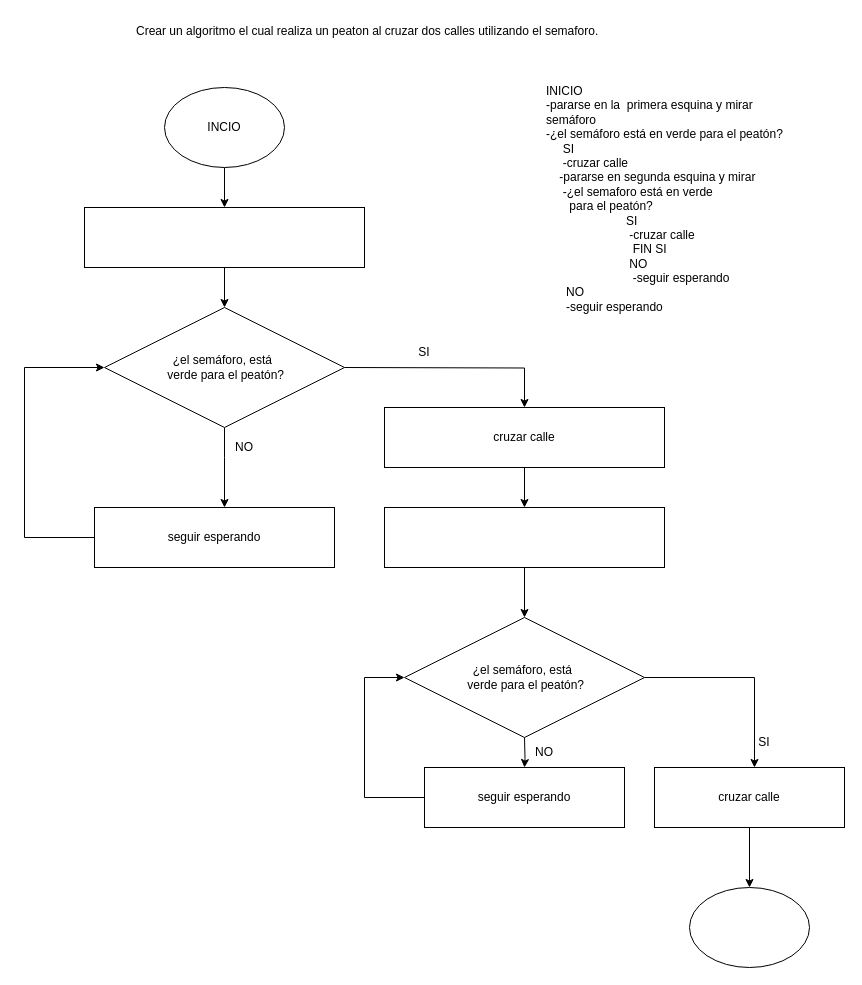
This 862x985 diagram has some shape labels left out. Each missing label, with the centre of its shape:
"FIN" goes at pixel 749 927.
"pararse en la primera esquina y mirar semáforo" goes at pixel 224 237.
"pararse en la segunda esquina y mirar semáforo" goes at pixel 524 537.
